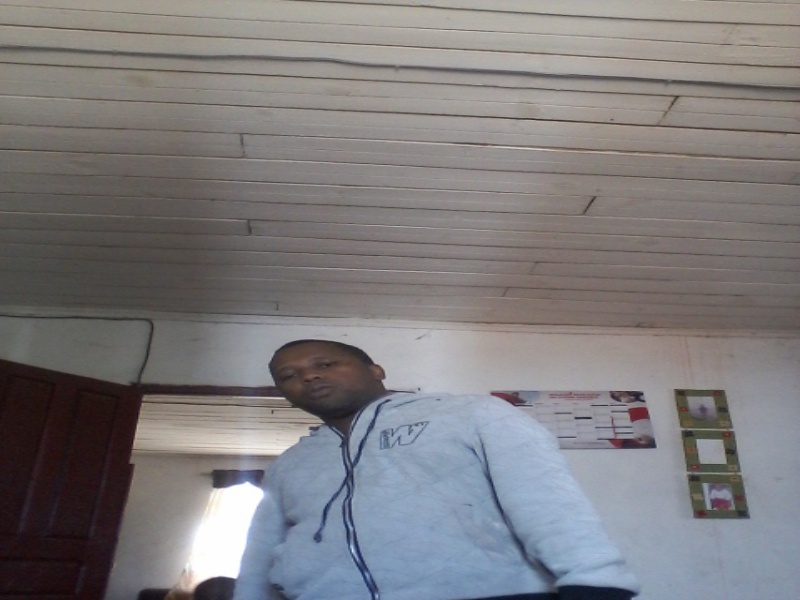TsisyArotava: (254, 333, 388, 430)
